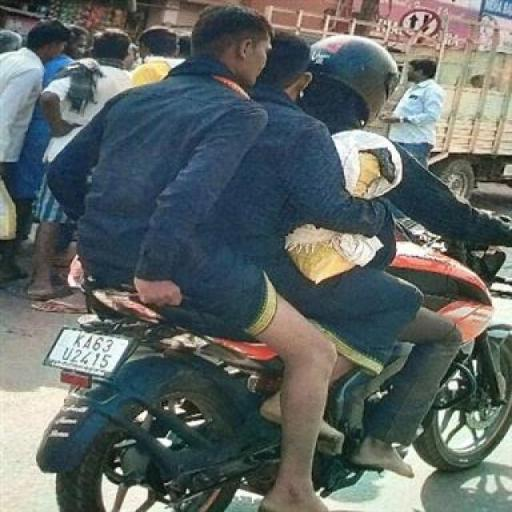tripple riding: (46, 0, 512, 274)
